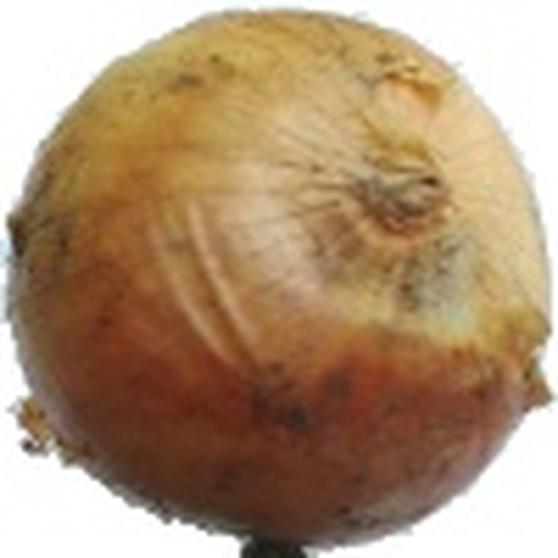onion: (18, 9, 551, 552)
